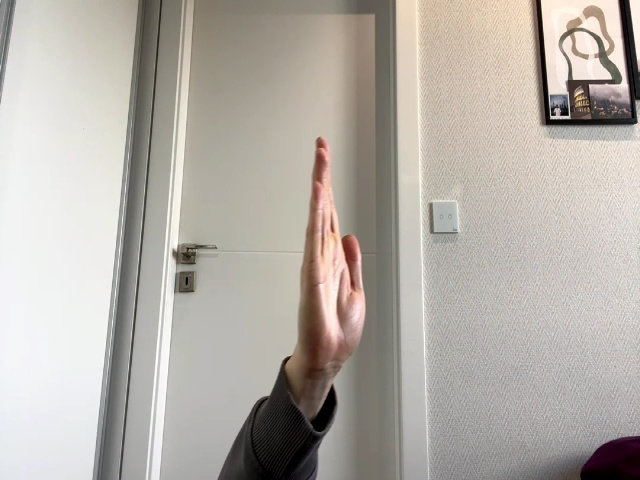SZ: (294, 136, 366, 376)
